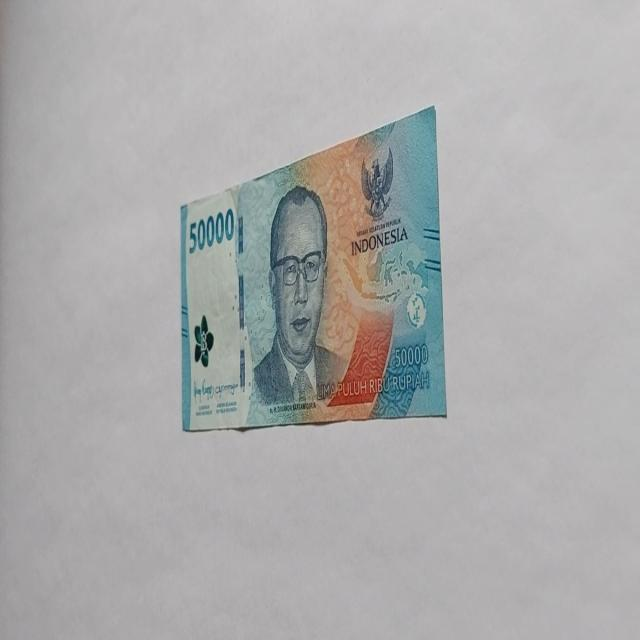lima puluh ribu rupiah: (179, 104, 447, 433), (247, 183, 347, 421)
